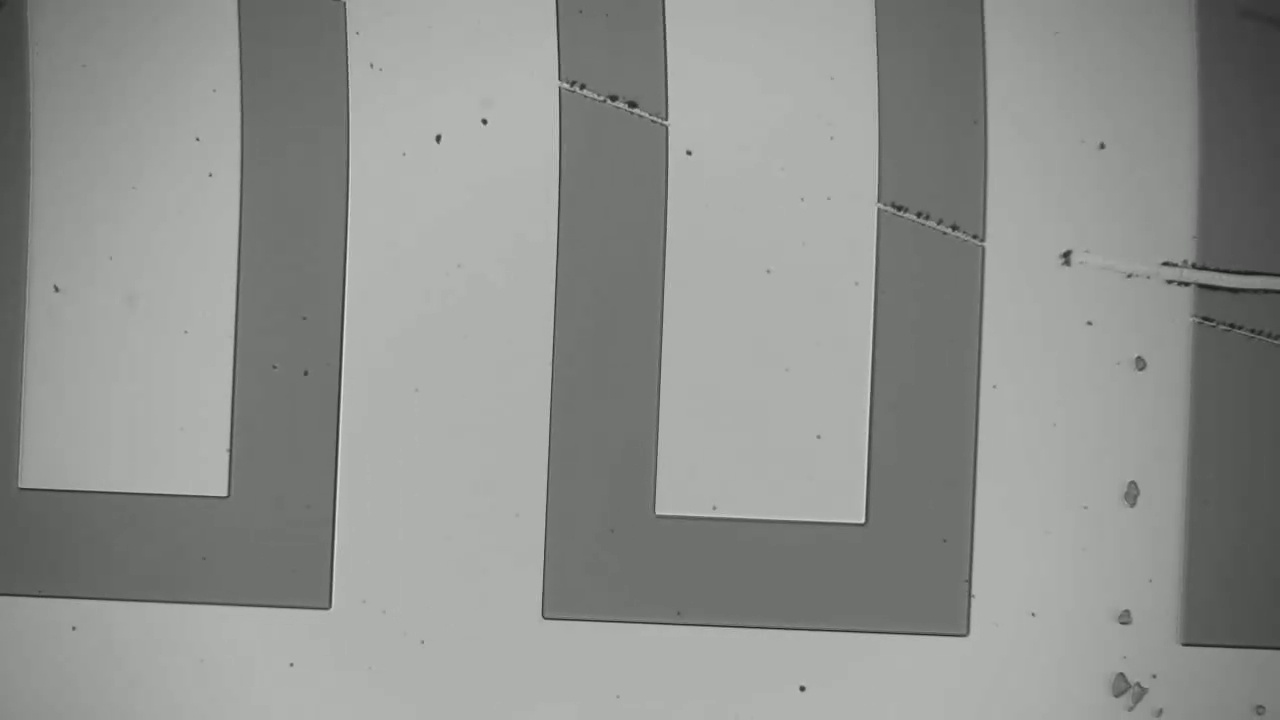Short_circuit: (1157, 246, 1279, 297)
scratch: (568, 77, 658, 122), (885, 200, 979, 241)
